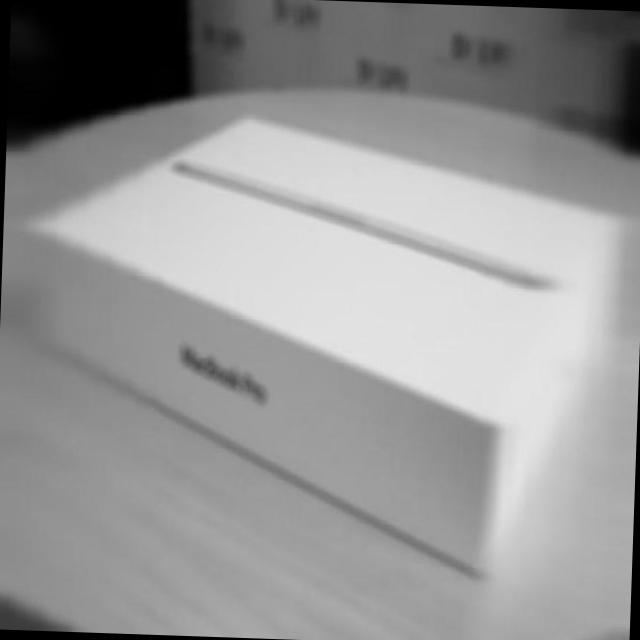box: (16, 102, 640, 576)
